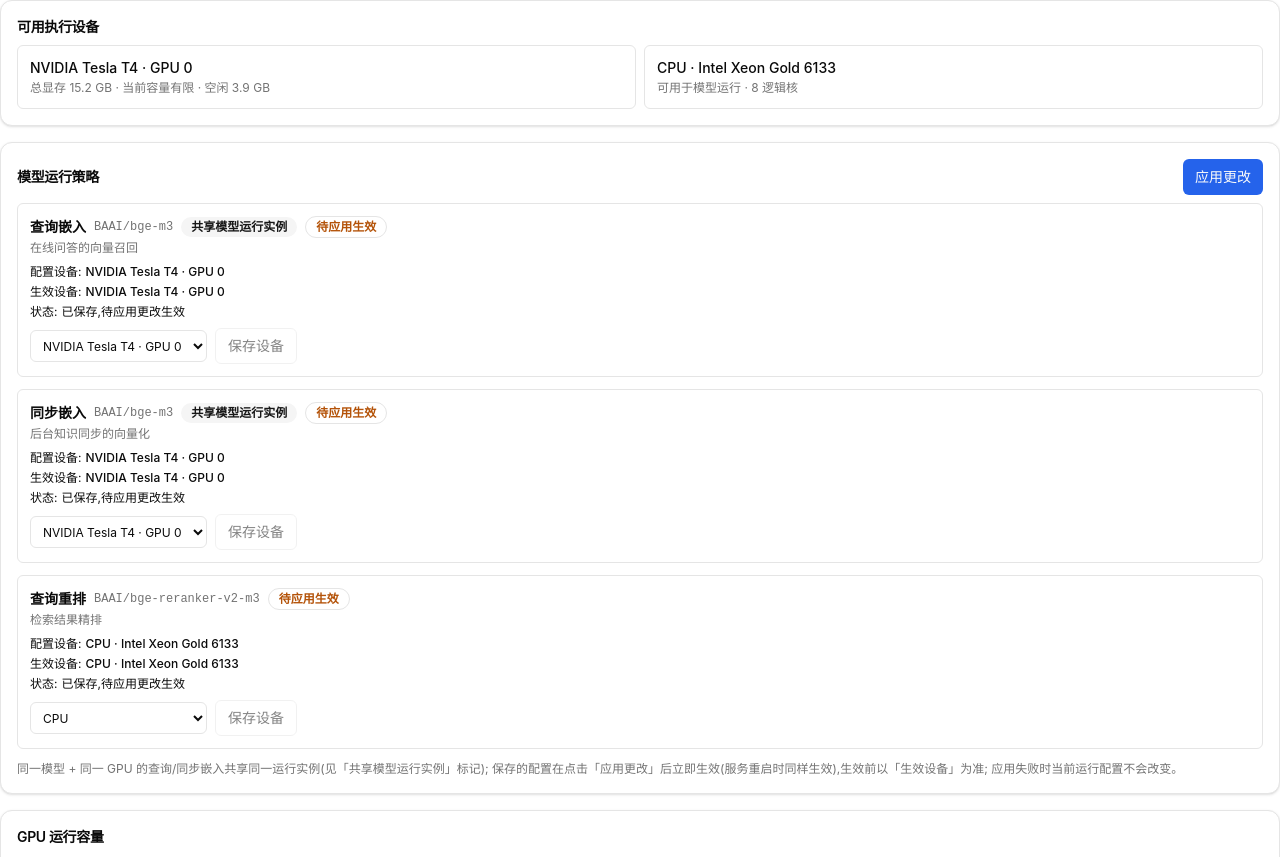
Scenario: ModelRuntimeTab(§35 模型运行) › Apply 失败:明确说明「当前运行配置未改变」及可操作错误
Click the button with test id "apply-runtime-button" at (1223, 177), box [1183,159,1263,195]
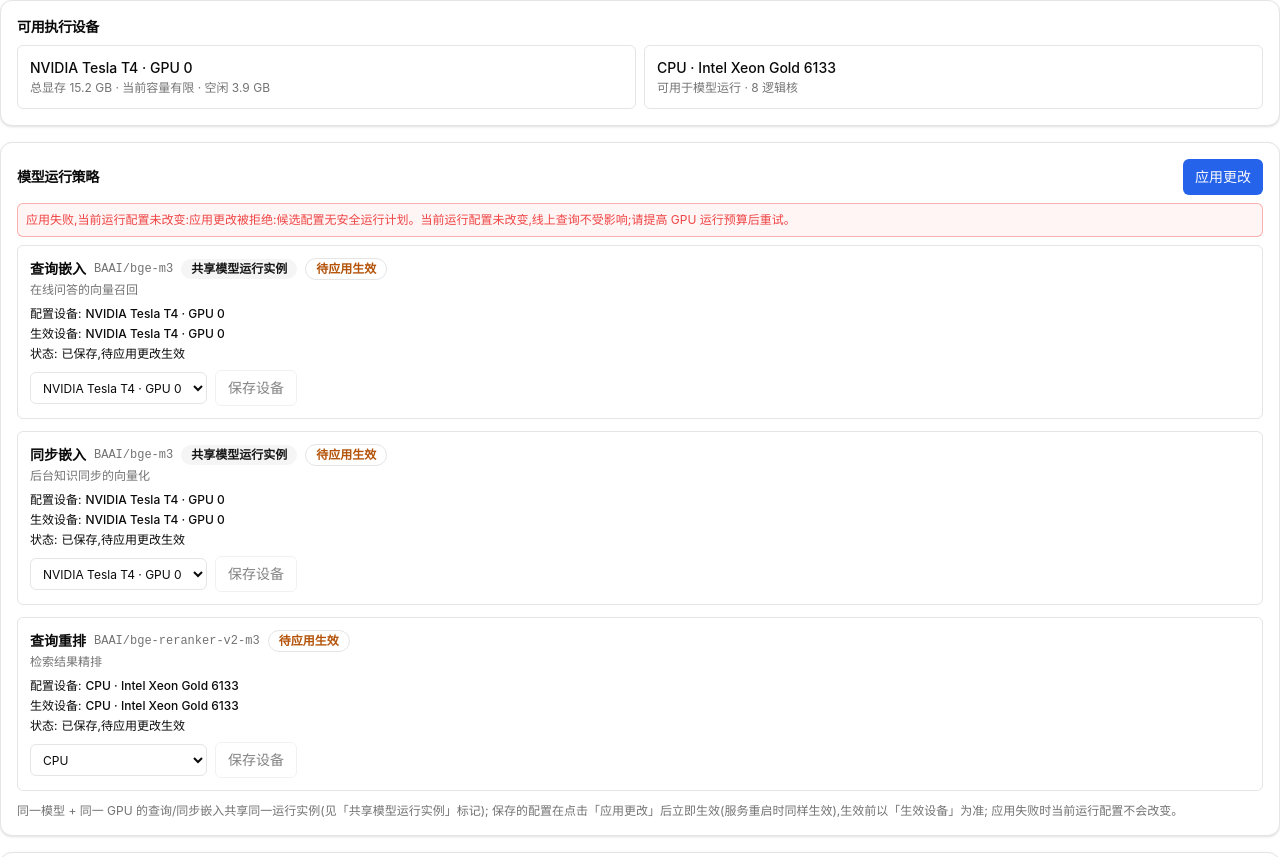
expect the text "待应用生效" in the row of "查询嵌入" is shown: met, box [316,261,376,276]
expect the text with test id "apply-error" shows "应用失败,当前运行配置未改变": met, box [26,212,189,227]
expect the text with test id "apply-error" shows "请提高 GPU 运行预算后重试": met, box [189,212,796,227]
